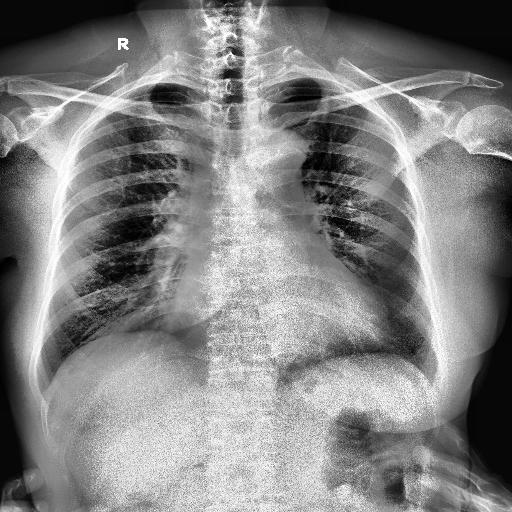0- Aortic enlargement: (242, 130, 310, 184), (256, 126, 310, 179), (252, 130, 306, 164)
3- Cardiomegaly: (178, 266, 392, 350), (170, 296, 392, 355)
